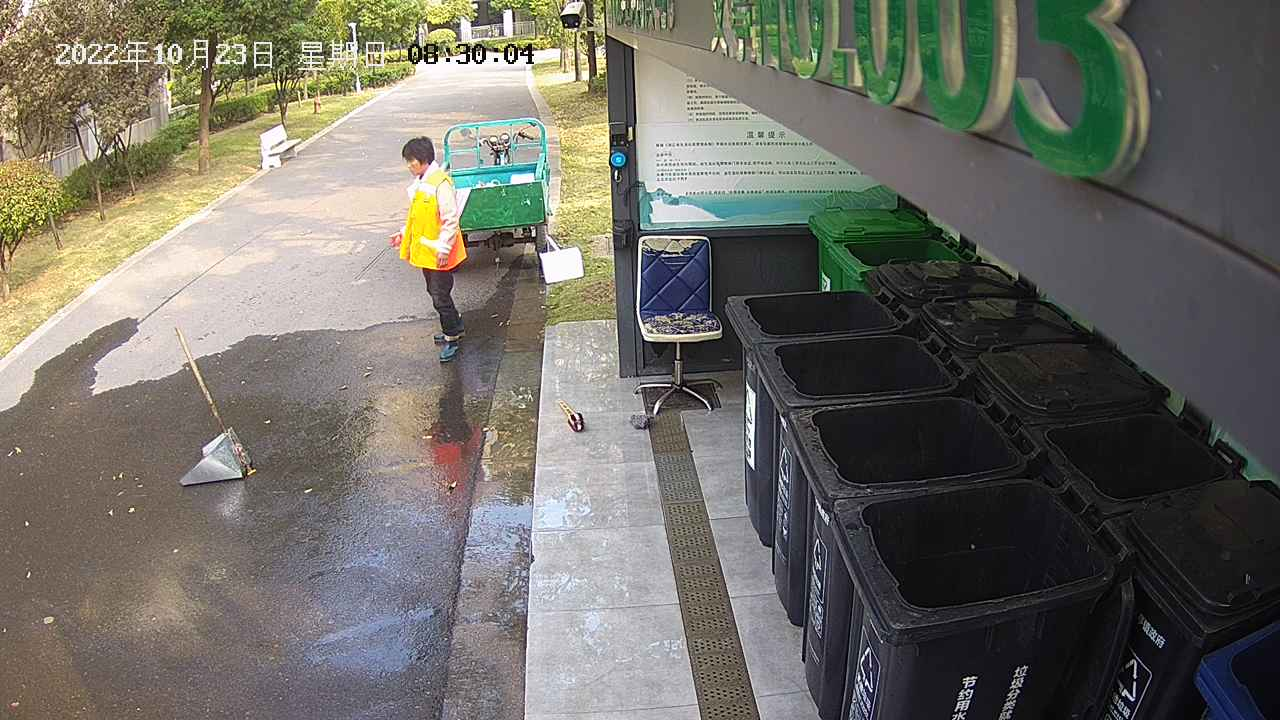worker: (385, 131, 474, 368)
